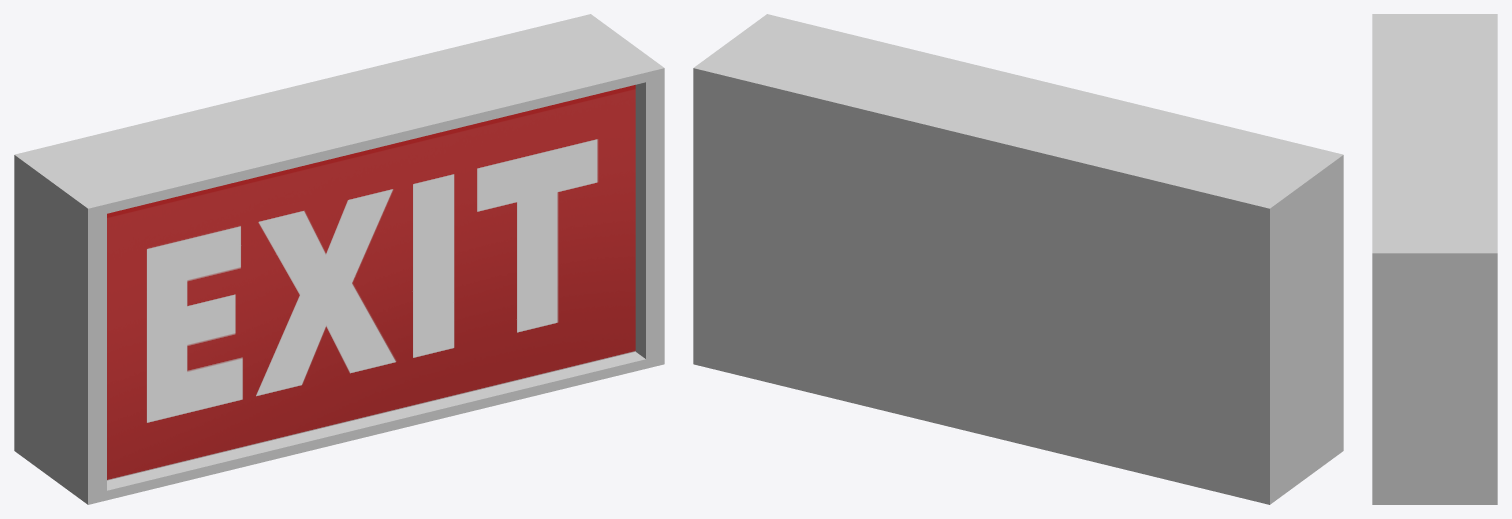
Rendered from Exit.fbx.
The picture shows the model from 3 angles, left to right: view 1: azimuth 30°, elevation 25°; view 2: azimuth 150°, elevation 25°; view 3: azimuth 270°, elevation 25°; orthographic projection. The views are drawn at different scales.
Parts seen in each view (by area): view 1: Cube; view 2: Cube; view 3: Cube.
Part boxes in pixels (x1,y1,x2,y2): Cube: (14, 14, 664, 504); Cube: (693, 14, 1343, 504); Cube: (1372, 14, 1497, 504).
Bounding box in the file's own units: 200 × 98.19 × 44.39.
